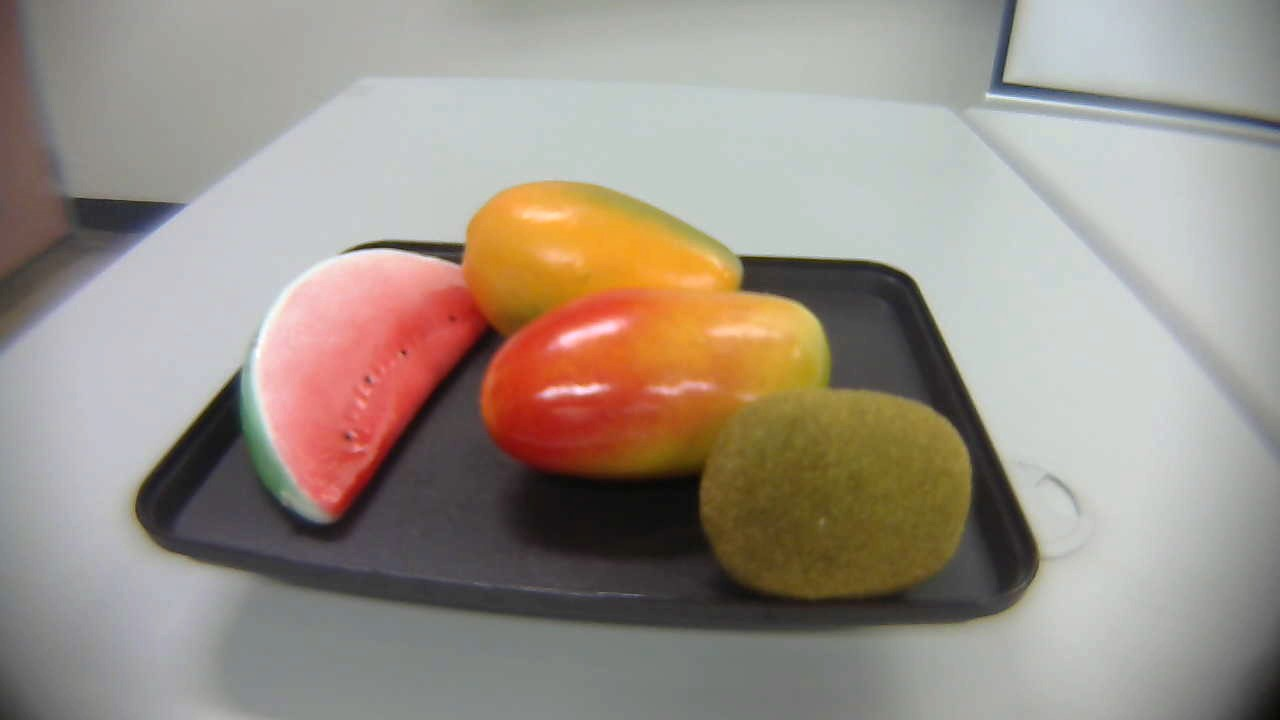kiwi fruit: (696, 388, 986, 590)
papya: (459, 169, 756, 347)
red mango: (471, 288, 844, 488)
water melon: (239, 234, 495, 524)
